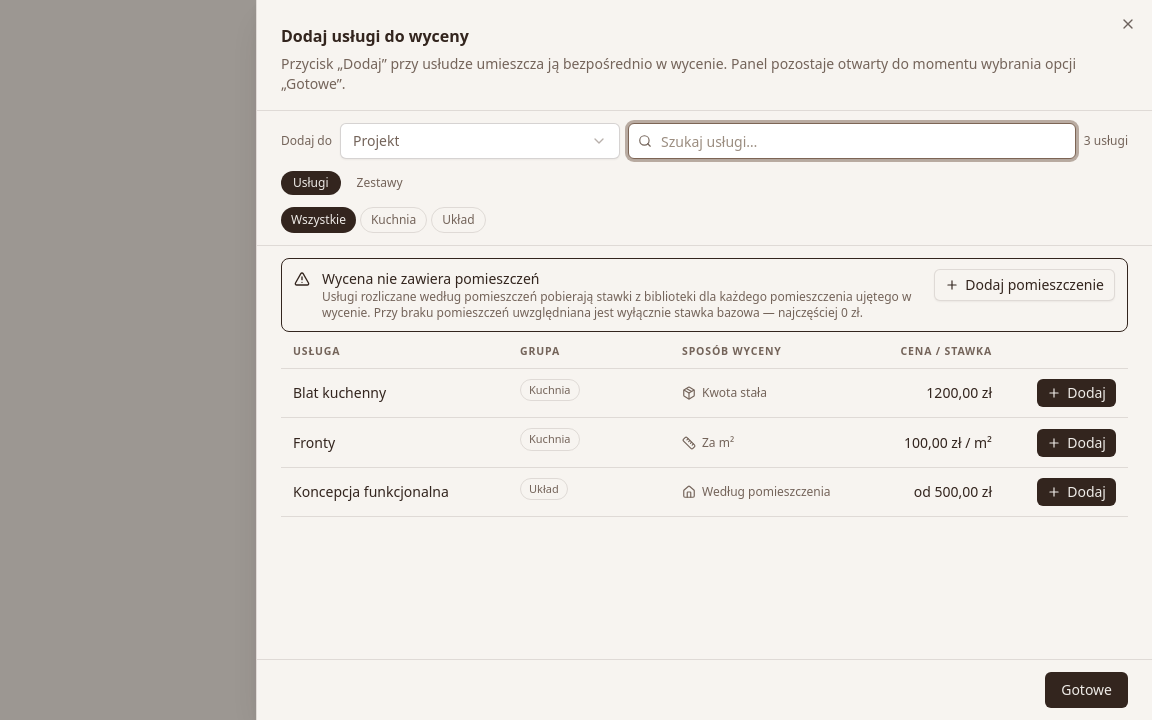
Test case: ScopePanel — dodawanie usług z tabeli (T-71) › pigułki grup zawężają listę, szukajka filtruje po nazwie
Step 1. Click the button "Kuchnia" → (394, 220), box [360, 207, 427, 233]
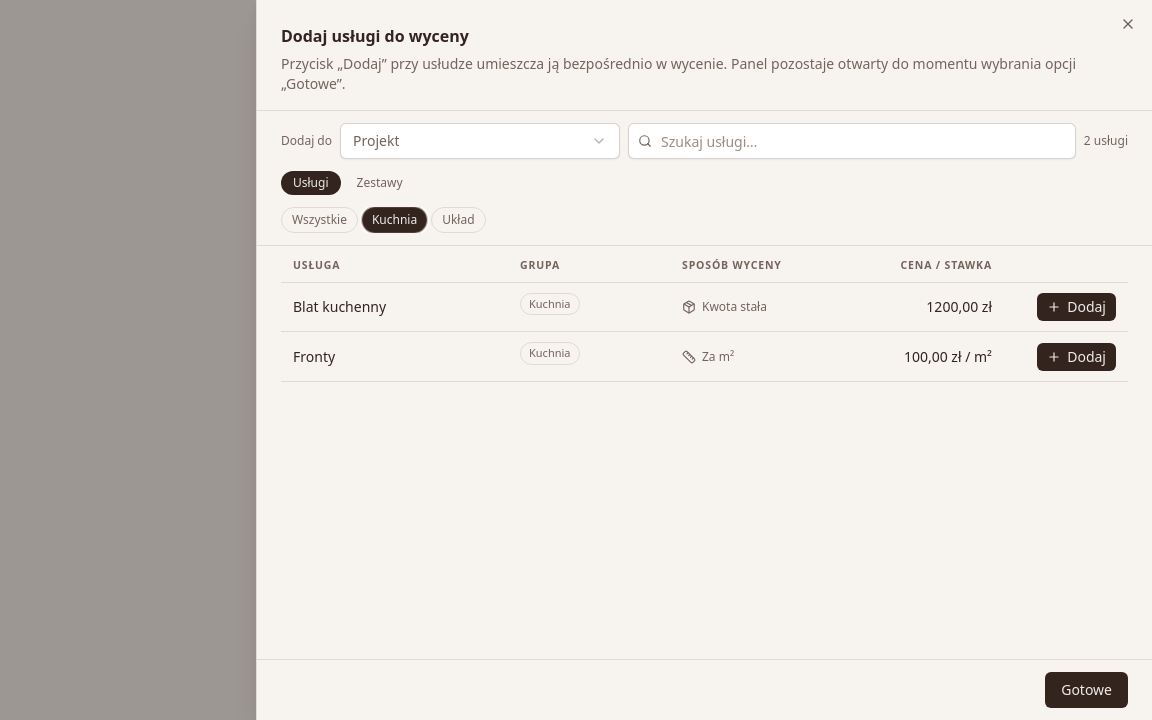
expect the number of list items with test id "scope-row" is 2: met, box [281, 283, 1128, 332]; [281, 332, 1128, 382]
Step 2. Type "fron" into the field labelled "Szukaj usługi…" → (852, 141), box [628, 123, 1076, 159]
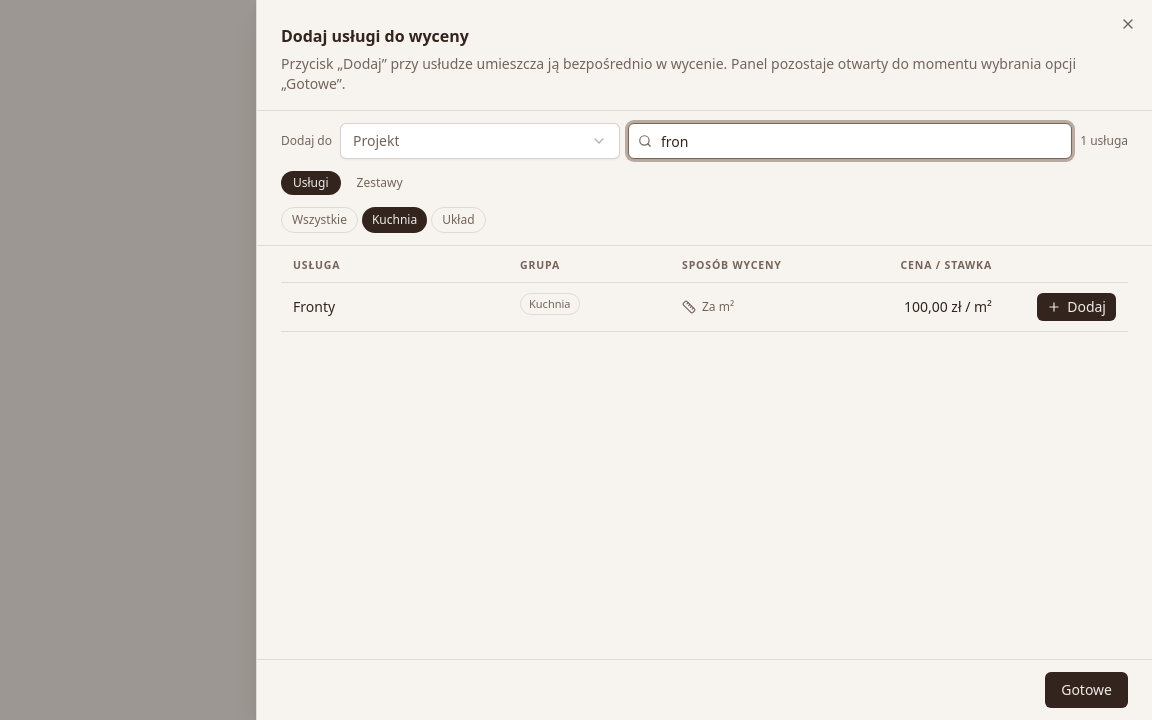
expect the text "Fronty" is shown: met, box [293, 297, 335, 316]
expect the number of list items with test id "scope-row" is 1: met, box [281, 283, 1128, 332]
